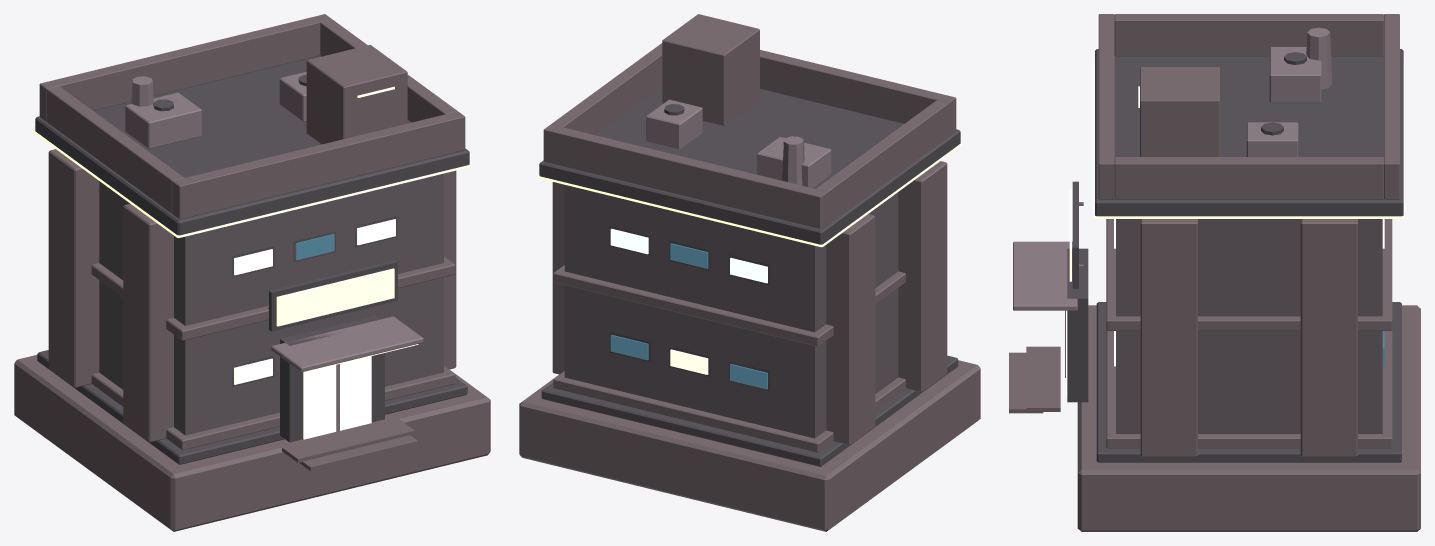
Rendered from threat_lab.glb.
The picture shows the model from 3 angles, left to right: view 1: azimuth 30°, elevation 25°; view 2: azimuth 150°, elevation 25°; view 3: azimuth 270°, elevation 25°; orthographic projection. The views are drawn at different scales.
Parts seen in each view (by area): view 1: threat_lab_Concrete@hardened, threat_lab_Graphite@hardened, threat_lab_DarkAlloy@hardened, threat_lab_Steel@hardened, threat_lab_Amber, threat_lab_WarmGlass, threat_lab_CoolGlass, threat_lab_BlackGlass; view 2: threat_lab_Concrete@hardened, threat_lab_Graphite@hardened, threat_lab_DarkAlloy@hardened, threat_lab_Steel@hardened, threat_lab_BlackGlass, threat_lab_CoolGlass, threat_lab_Amber, threat_lab_WarmGlass; view 3: threat_lab_Concrete@hardened, threat_lab_DarkAlloy@hardened, threat_lab_Graphite@hardened, threat_lab_Steel@hardened, threat_lab_Amber.
Part boxes in pixels (bbox=[...]): threat_lab_Concrete@hardened: bbox=[14, 14, 490, 531]; threat_lab_Graphite@hardened: bbox=[99, 173, 443, 435]; threat_lab_DarkAlloy@hardened: bbox=[35, 55, 469, 464]; threat_lab_Steel@hardened: bbox=[125, 72, 423, 431]; threat_lab_Amber: bbox=[33, 86, 471, 372]; threat_lab_WarmGlass: bbox=[234, 356, 371, 439]; threat_lab_CoolGlass: bbox=[234, 219, 395, 275]; threat_lab_BlackGlass: bbox=[295, 234, 334, 260]; threat_lab_Concrete@hardened: bbox=[519, 14, 980, 531]; threat_lab_Graphite@hardened: bbox=[564, 185, 898, 438]; threat_lab_DarkAlloy@hardened: bbox=[539, 87, 960, 466]; threat_lab_Steel@hardened: bbox=[646, 99, 831, 188]; threat_lab_BlackGlass: bbox=[610, 243, 767, 389]; threat_lab_CoolGlass: bbox=[610, 228, 767, 283]; threat_lab_Amber: bbox=[537, 142, 962, 247]; threat_lab_WarmGlass: bbox=[670, 349, 708, 374]; threat_lab_Concrete@hardened: bbox=[1009, 14, 1420, 531]; threat_lab_DarkAlloy@hardened: bbox=[1067, 49, 1403, 462]; threat_lab_Graphite@hardened: bbox=[1116, 219, 1382, 433]; threat_lab_Steel@hardened: bbox=[1013, 27, 1332, 377]; threat_lab_Amber: bbox=[1069, 63, 1404, 281].
Size of the model in its own units: 10.4 by 11.7 by 10.8.
